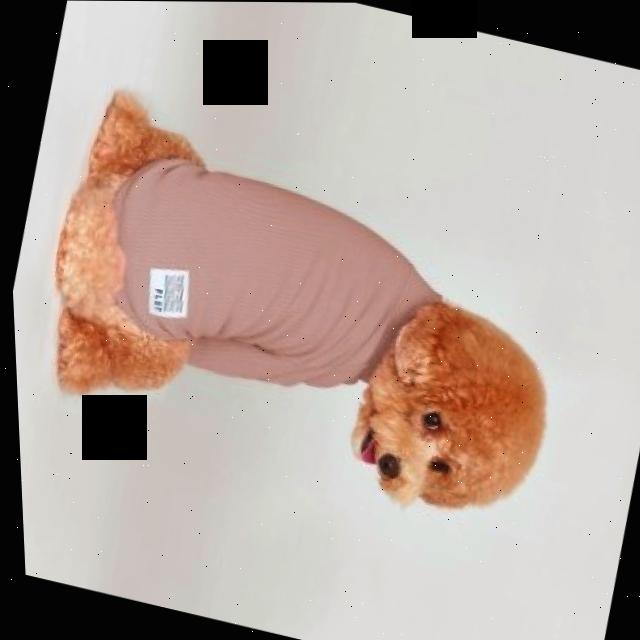cloth: (113, 159, 436, 385)
